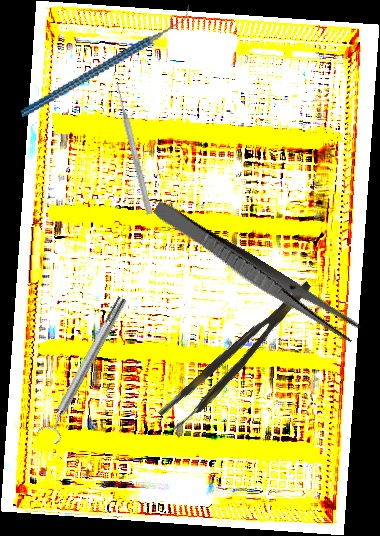Chopper: (7, 4, 204, 117)
Dressing Forceps: (148, 198, 363, 345)
Fixation Ring: (34, 292, 136, 446)
Pusher: (112, 81, 155, 216)
Tissue Forceps: (157, 278, 324, 434)
